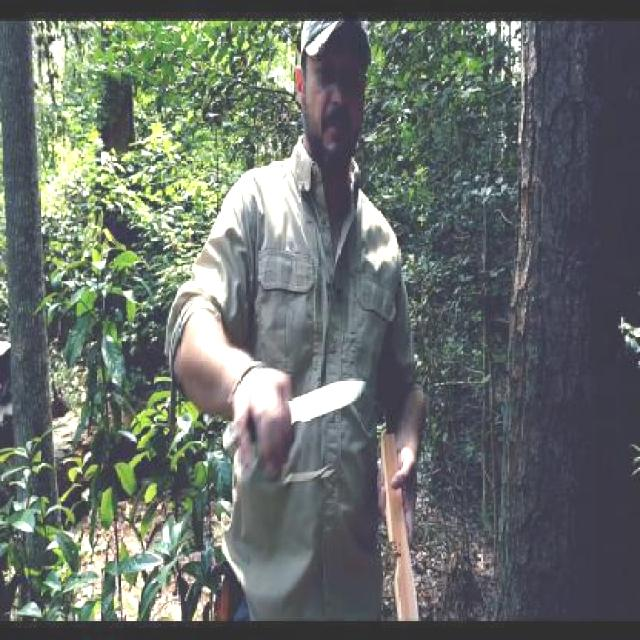knife: (244, 368, 376, 477)
